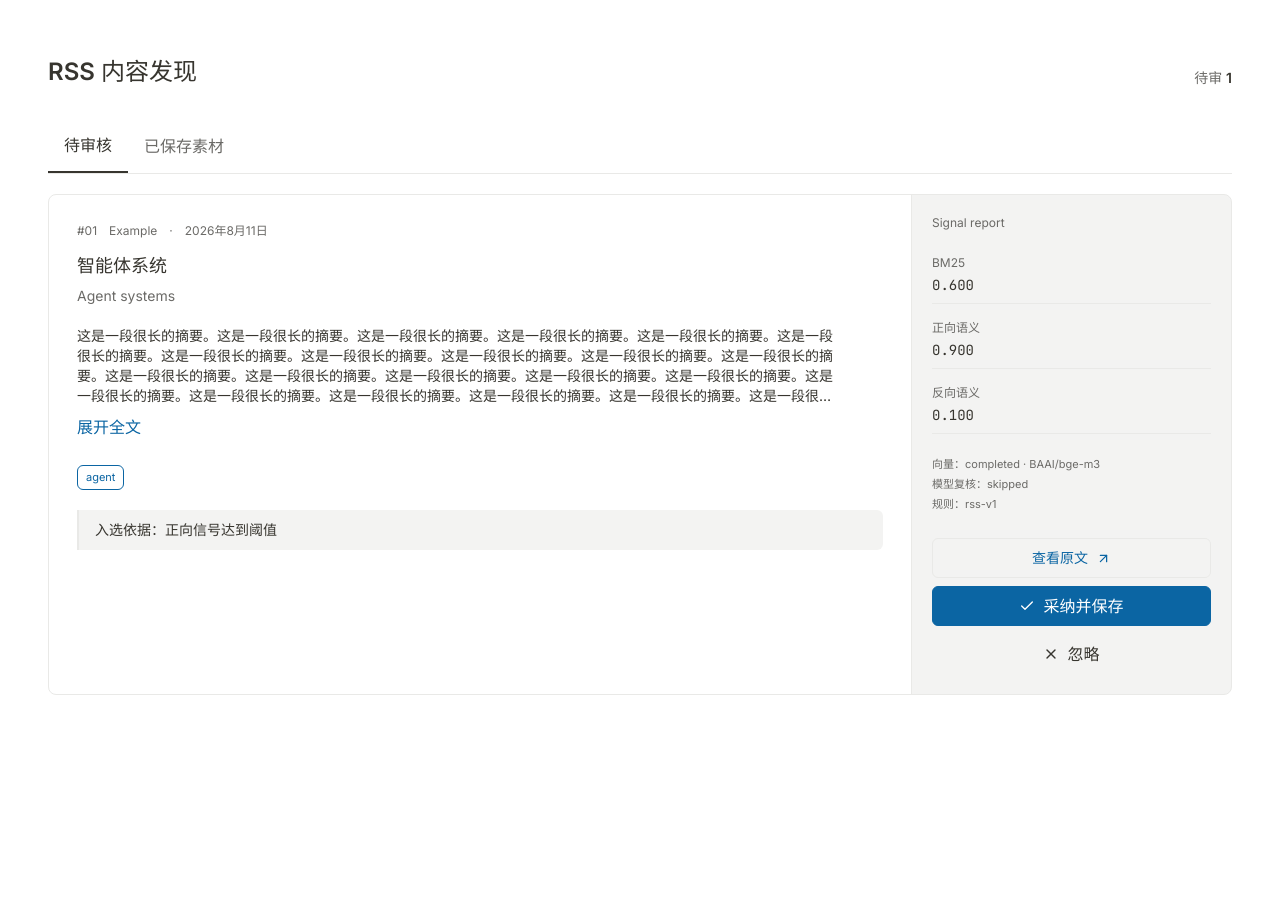
RssCandidatesPage › clamps long summaries behind an expand toggle
Click the button "展开全文". click: (109, 427)
box: [77,414,141,441]
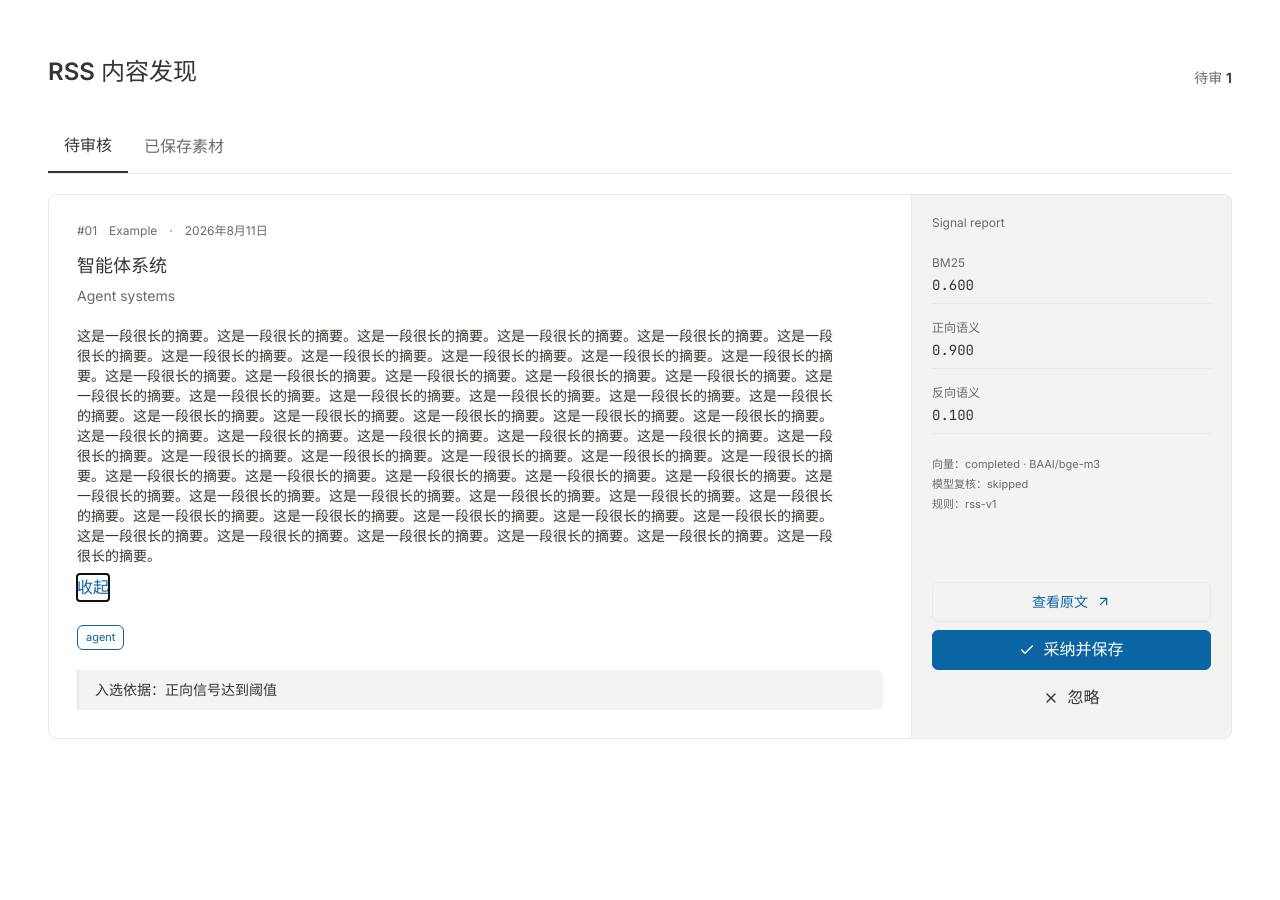
Now the button "收起" is shown, box [77,574,109,601]
